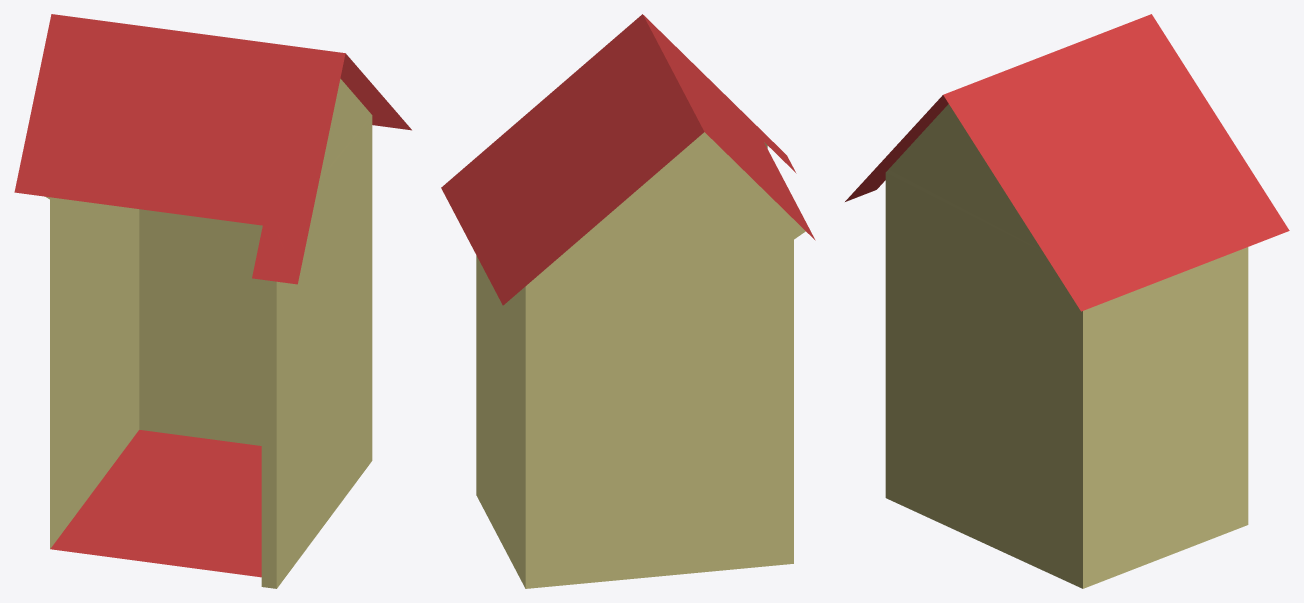
3 views of the same model, side by side, from view 1: azimuth 30°, elevation 25°; view 2: azimuth 150°, elevation 25°; view 3: azimuth 270°, elevation 25° (orthographic). The views are drawn at different scales.
Size of the model in its own units: 7.23 by 7.58 by 8.41.
